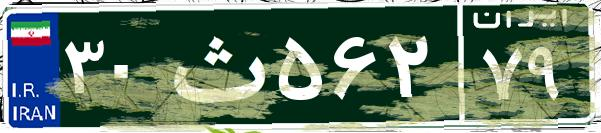0: (110, 28, 158, 105)
2: (385, 28, 445, 110)
3: (57, 26, 110, 107)
5: (273, 28, 330, 110)
6: (330, 28, 385, 110)
7: (475, 38, 525, 113)
9: (525, 38, 570, 115)
ث: (158, 15, 273, 115)
